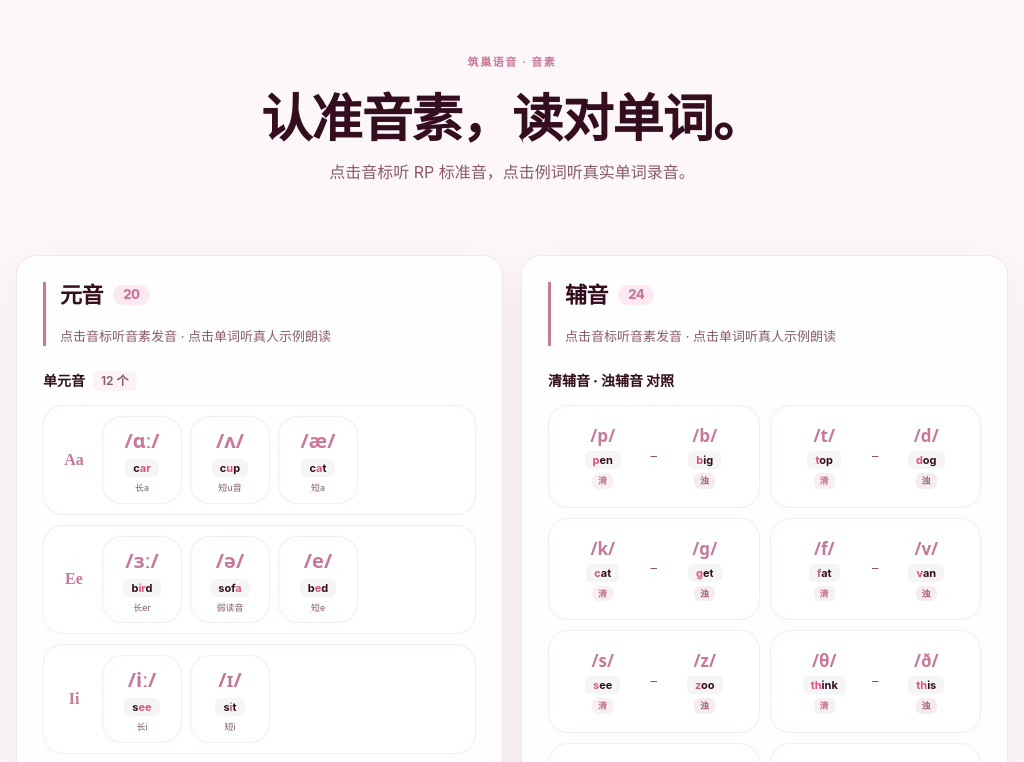
Test: PhoneticSoundPage › shows a visible warning when sound progress fails to save
Click the button "/ɑː/" at (142, 441), box [111,427,173,455]
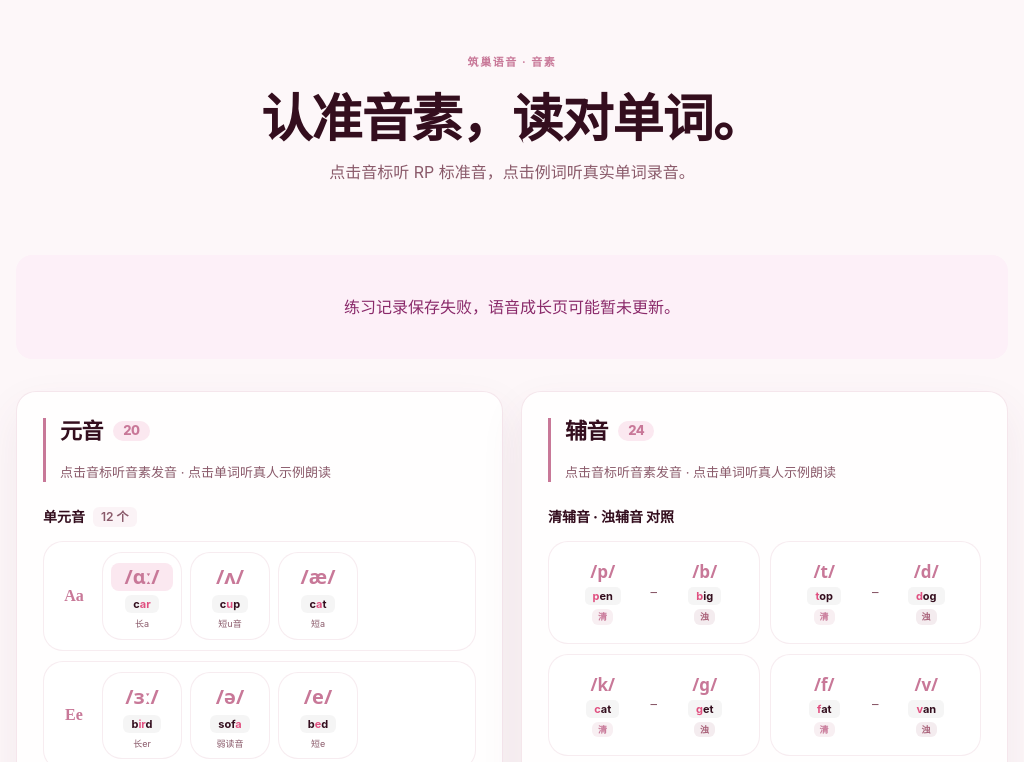
Expected: the message shows "练习记录保存失败", [344,297,680,317]
